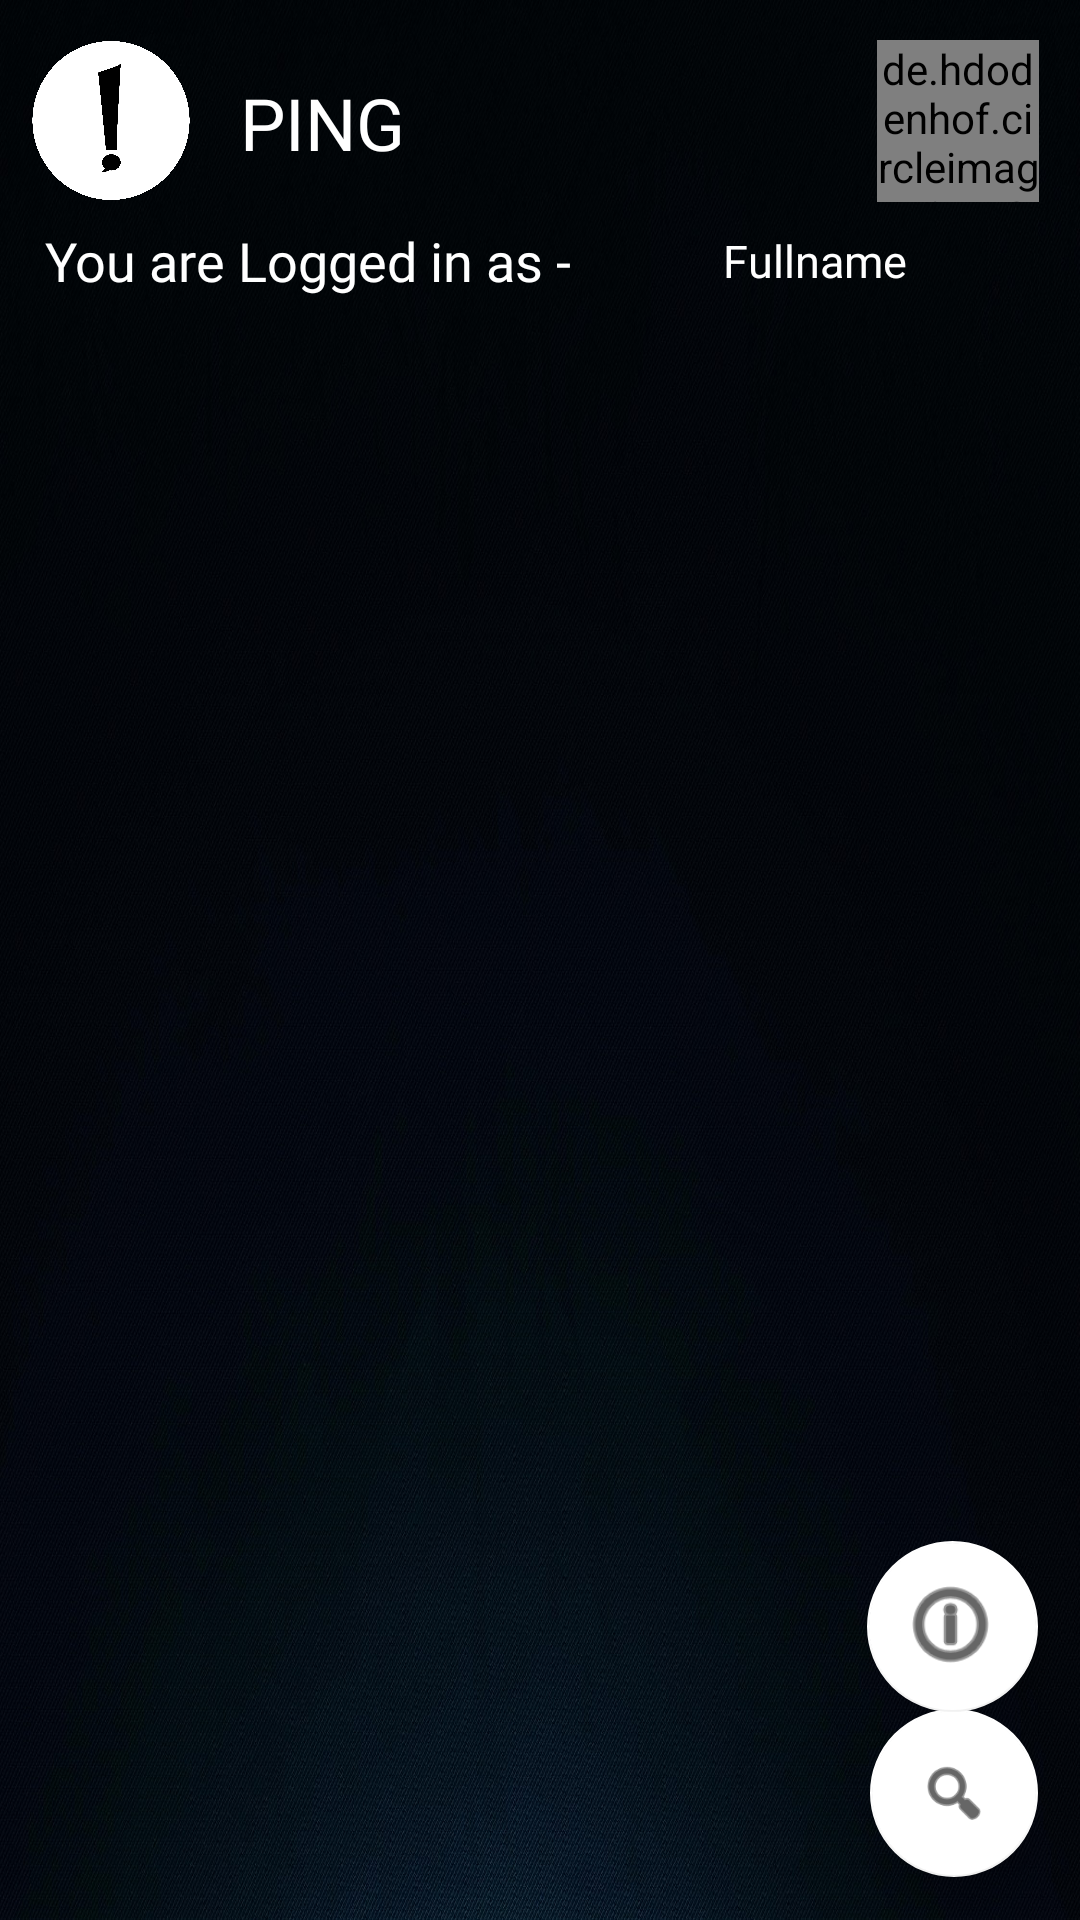

Point at icon controls on the screen. Image size 1080px×1920px, points as [x,y].
info details: [952,1626]
search: [954,1793]
